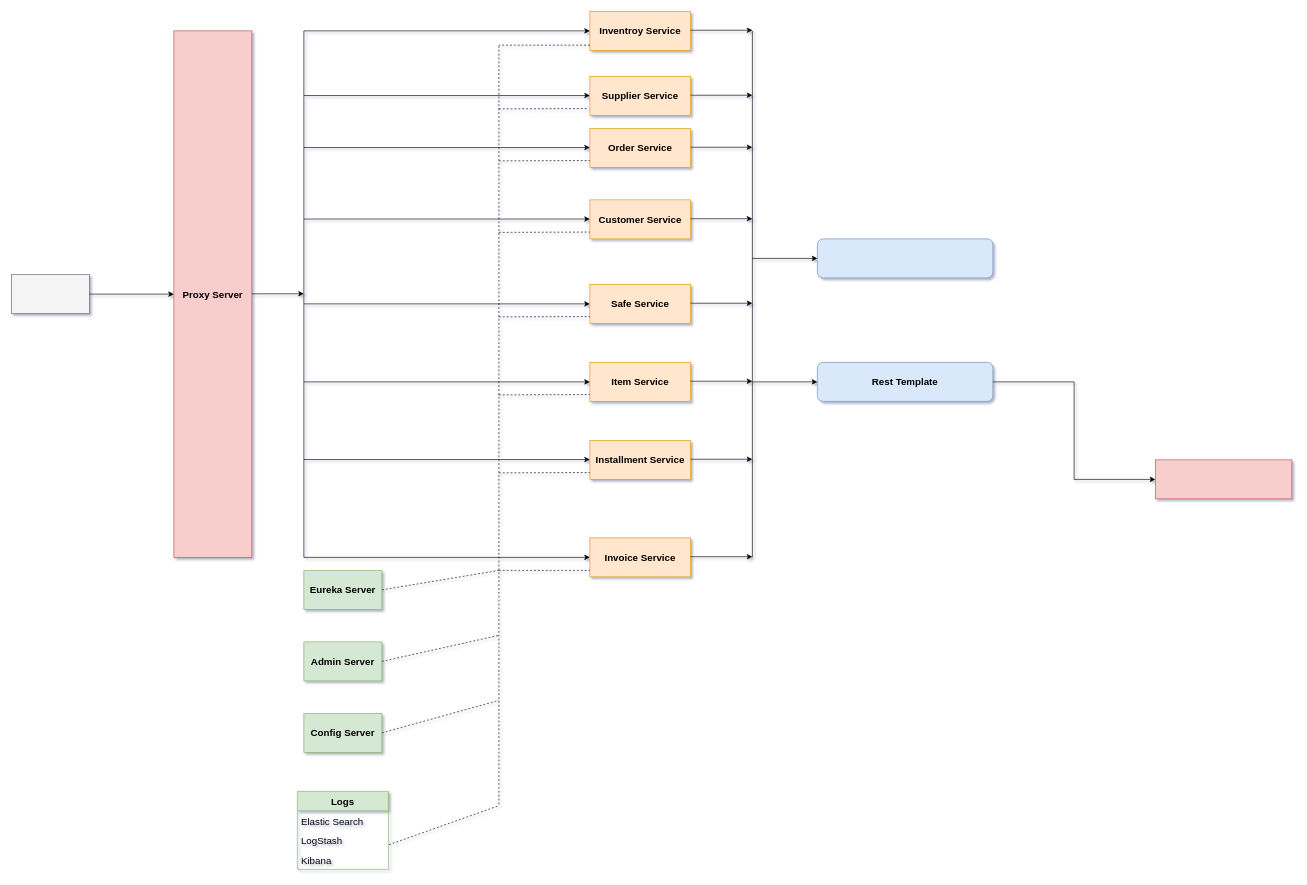
The diagram is 1307 pixels wide and 885 high, and some of its shapes have lost their labels. Here are the shapes that lost their labels. From the top down, the box of each, then its label:
(817, 238, 993, 278): Feign Client
(11, 274, 89, 314): Client
(1155, 459, 1292, 499): External API
